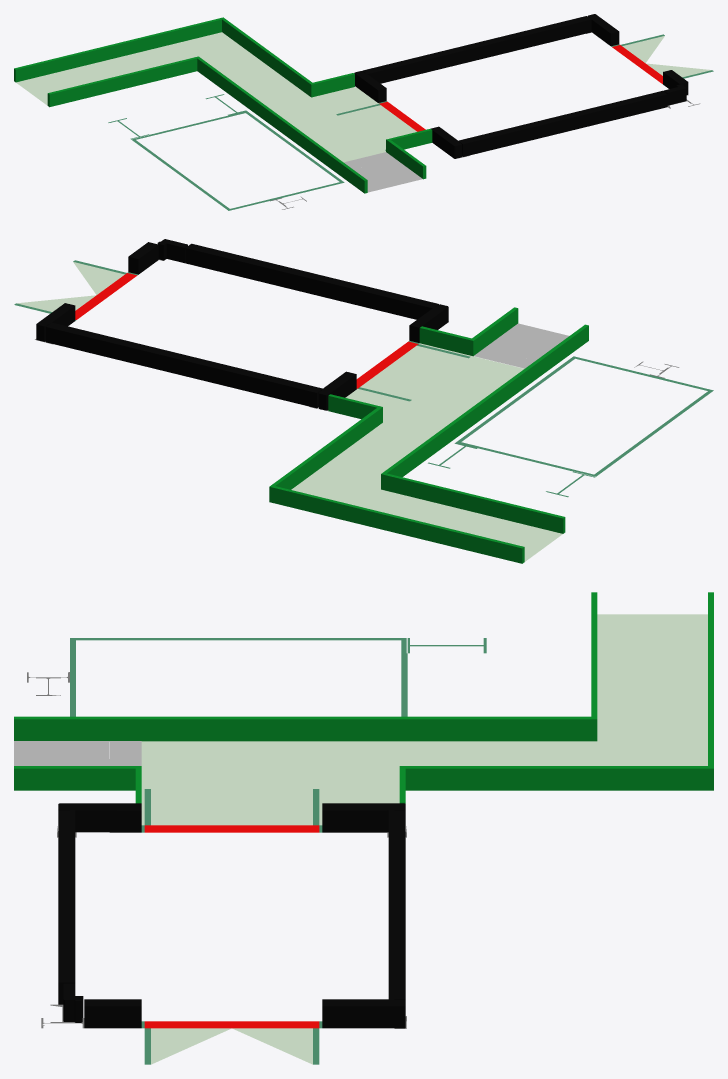
File: CC2 Sala PLC CO EFAISA.gltf
3 renders of one model, top to bottom at view 1: azimuth 30°, elevation 25°; view 2: azimuth 150°, elevation 25°; view 3: azimuth 270°, elevation 25°, orthographic. The views are drawn at different scales.
Parts seen in each view (by area): view 1: path1519, path1501, path1493, path1521, path1509, path1515, path1513, path1507; view 2: path1519, path1501, path1493, path1521, path1509, path1515, path1507, path1513; view 3: path1519, path1501, path1493, path1521, path1515, path1509, path1507, path1513.
Boxes of the visible parts, bbox=[...] form: path1519: bbox=[16, 32, 416, 162]; path1501: bbox=[14, 17, 432, 193]; path1493: bbox=[354, 14, 688, 158]; path1521: bbox=[344, 152, 422, 192]; path1509: bbox=[131, 111, 344, 210]; path1515: bbox=[622, 36, 711, 77]; path1513: bbox=[612, 45, 662, 83]; path1507: bbox=[379, 101, 425, 131]; path1519: bbox=[291, 343, 562, 561]; path1501: bbox=[269, 307, 588, 563]; path1493: bbox=[36, 239, 448, 410]; path1521: bbox=[474, 323, 568, 368]; path1509: bbox=[455, 356, 713, 476]; path1515: bbox=[17, 262, 124, 311]; path1507: bbox=[356, 341, 418, 388]; path1513: bbox=[75, 273, 137, 319]; path1519: bbox=[141, 614, 707, 825]; path1501: bbox=[14, 592, 713, 803]; path1493: bbox=[58, 803, 405, 1028]; path1521: bbox=[14, 741, 141, 765]; path1515: bbox=[151, 1028, 312, 1064]; path1509: bbox=[70, 638, 407, 716]; path1507: bbox=[144, 825, 319, 832]; path1513: bbox=[144, 1021, 319, 1028].
Size of the model in its own units: 33.04 by 0.7528 by 21.69.
